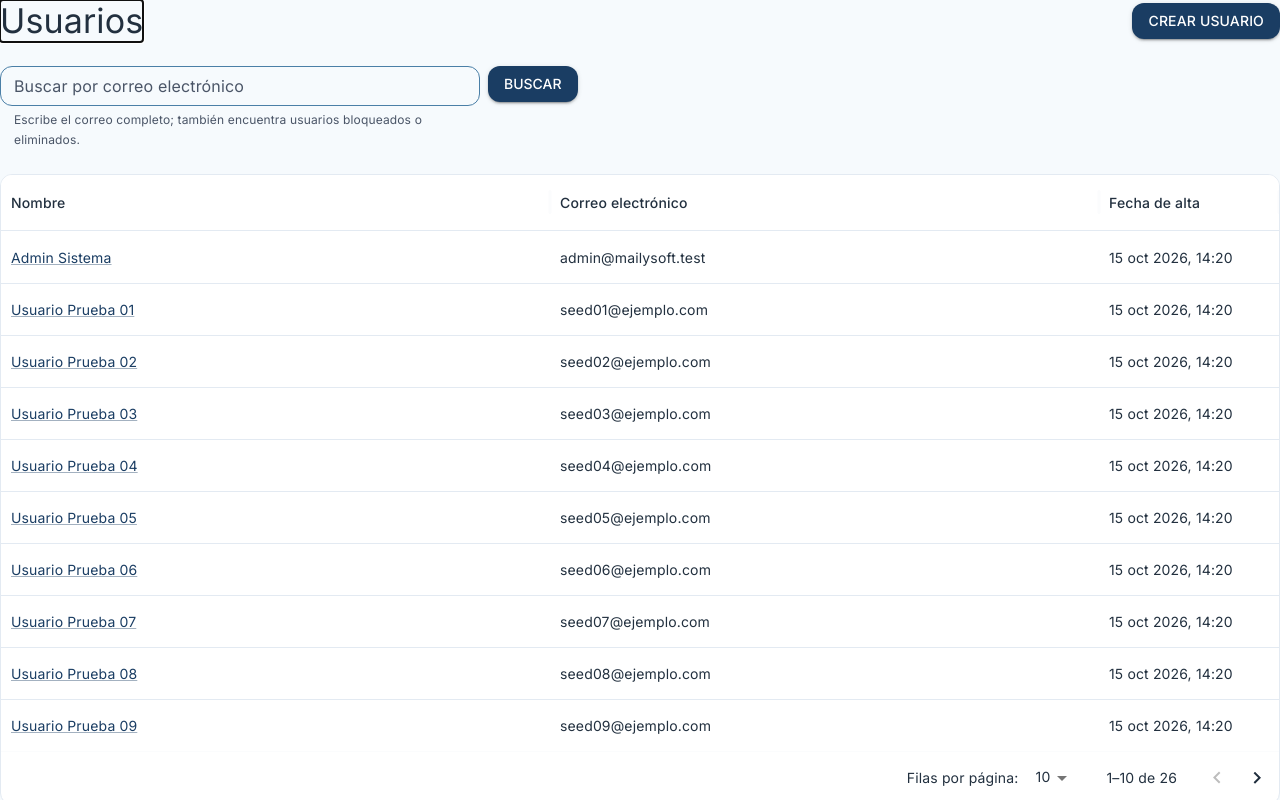
it: UsersListPage: the search by email › searches from the form, writing the email in the address
The image size is (1280, 800).
Expected: the link "Admin Sistema" is shown, x1=11 y1=249 x2=112 y2=266
In the field labelled "Buscar por correo electrónico": [240, 86] box x1=0 y1=66 x2=480 y2=106, type " Beto@Clinica.com "
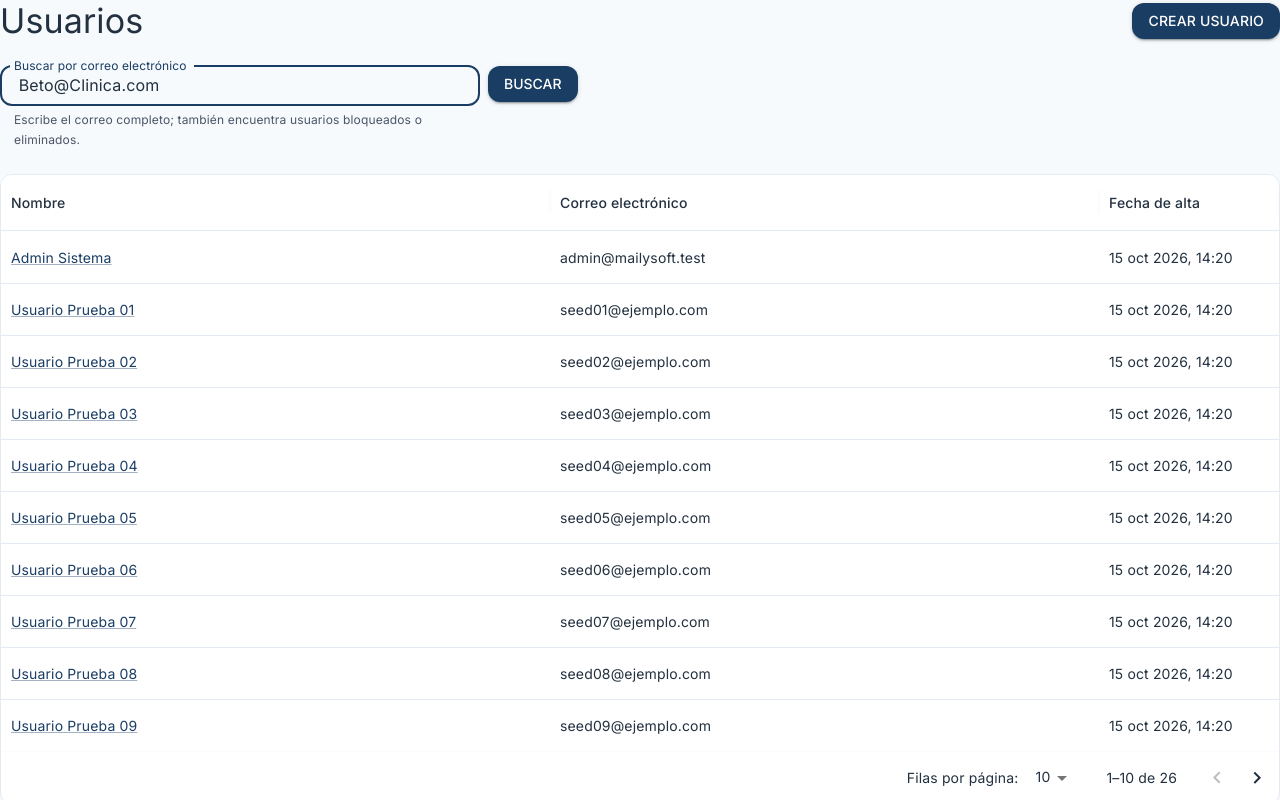
Click the button "Buscar": [533, 84] box x1=488 y1=66 x2=578 y2=102
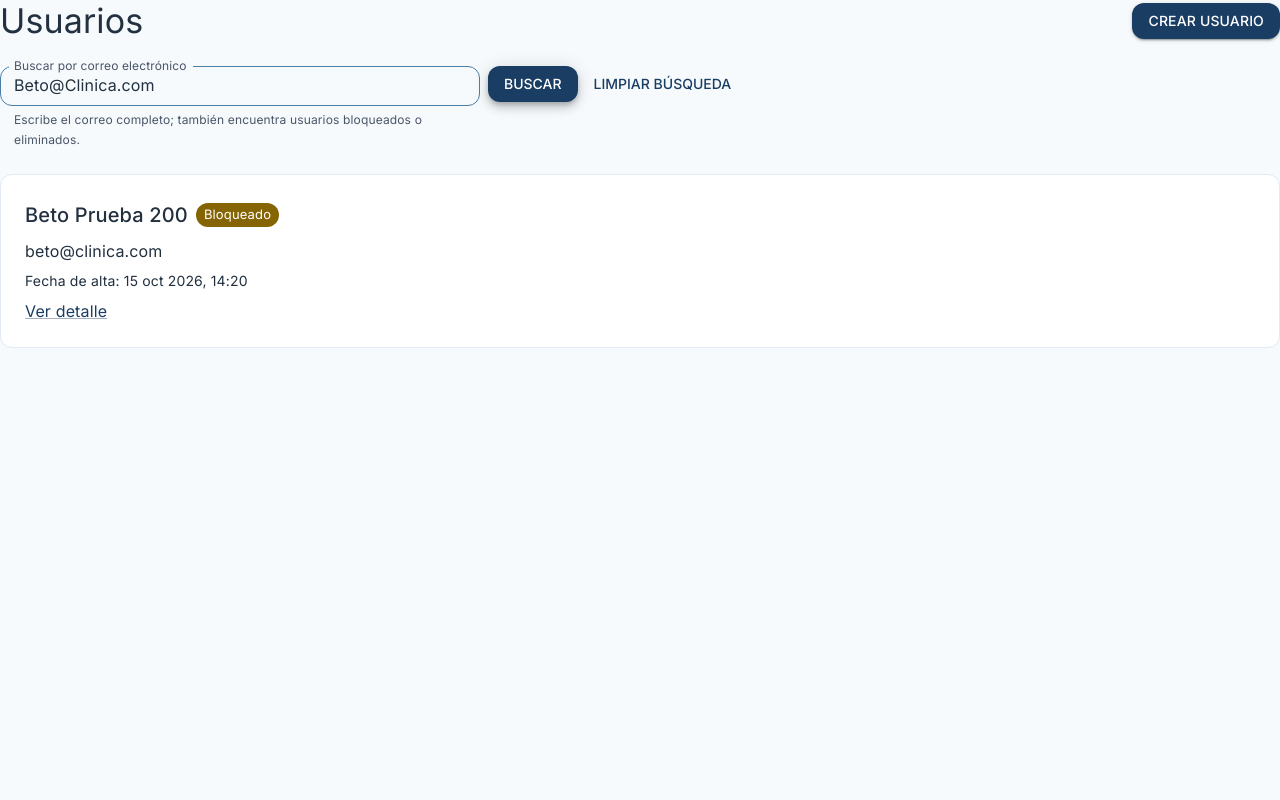
Now the text "Bloqueado" is shown, box x1=204 y1=206 x2=271 y2=222
